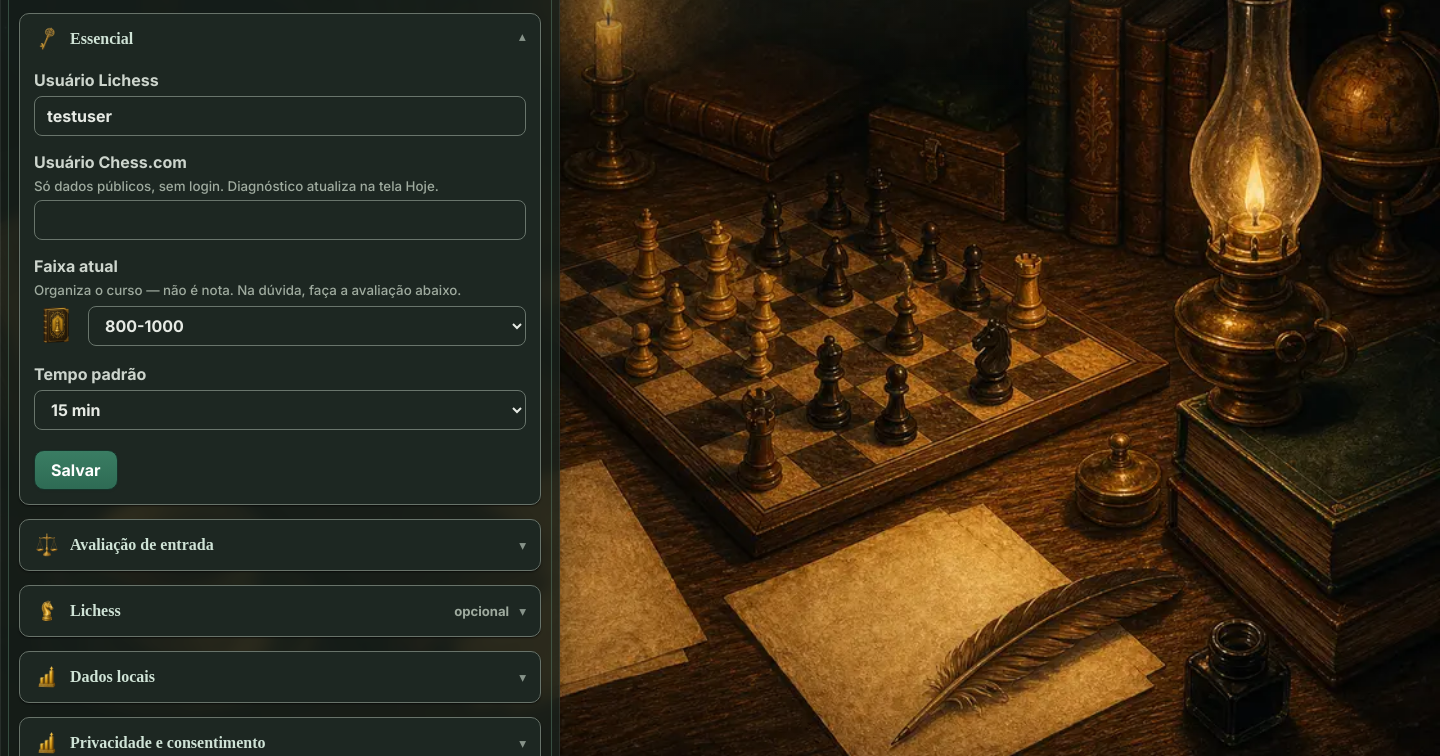
it: Config — autoBackupStatus › shows both "Reativar" and "Desligar" when autoBackupStatus is "needs-permission"
What coordinates should you click on to do the following:
click the heading "Dados locais"
I would click on:
 (94, 677)
Its box is [34,664,155,690].
(page scrolled)
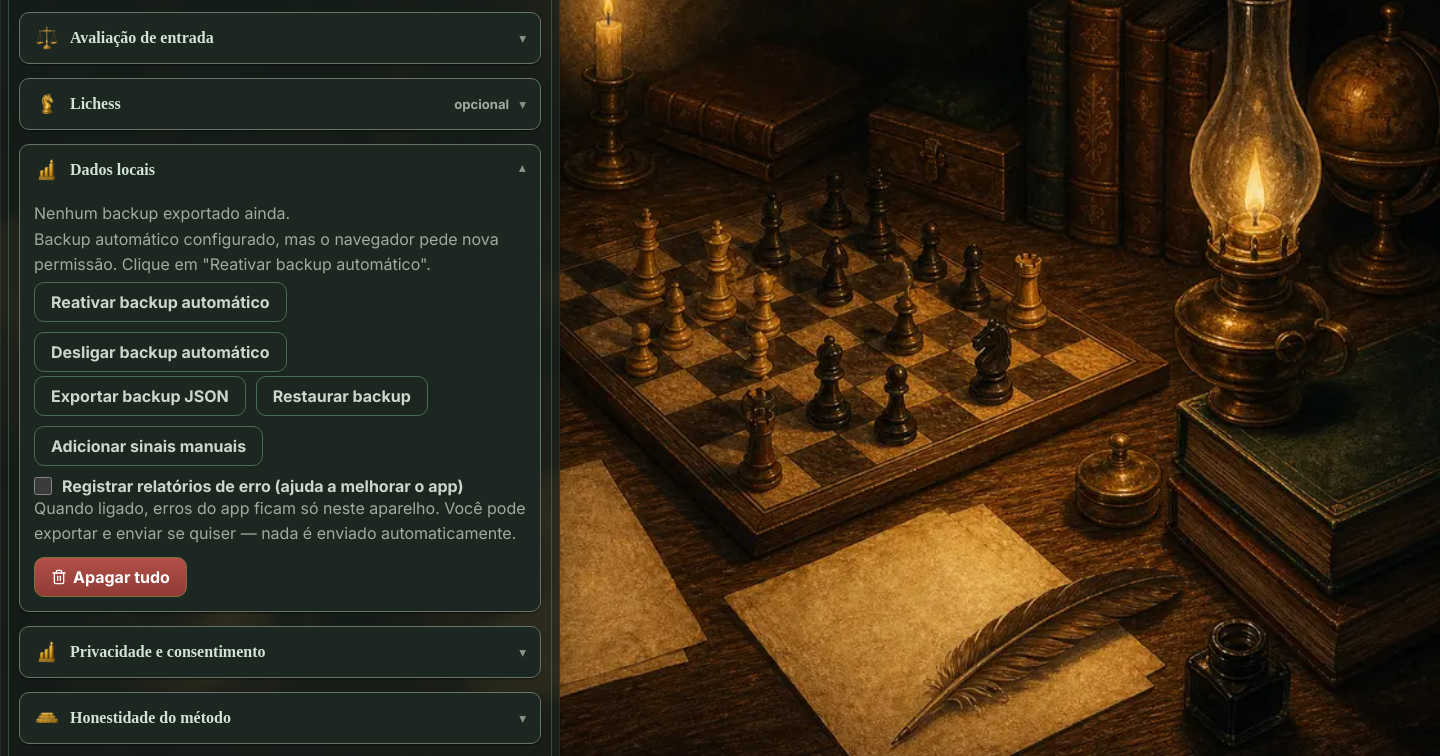
expect the button "Reativar backup automático" is shown: met, box [34,282,287,322]
expect the button "Desligar backup automático" is shown: met, box [34,332,287,372]
